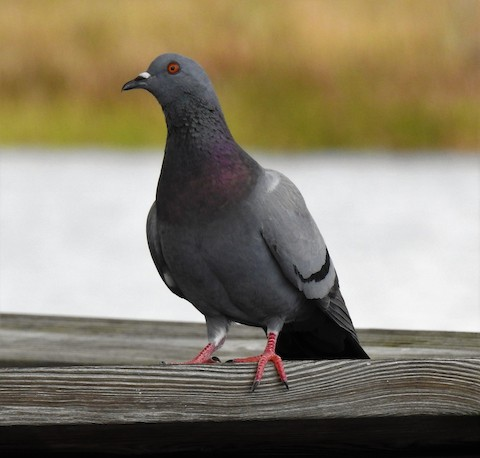pigeon: (118, 46, 381, 398)
